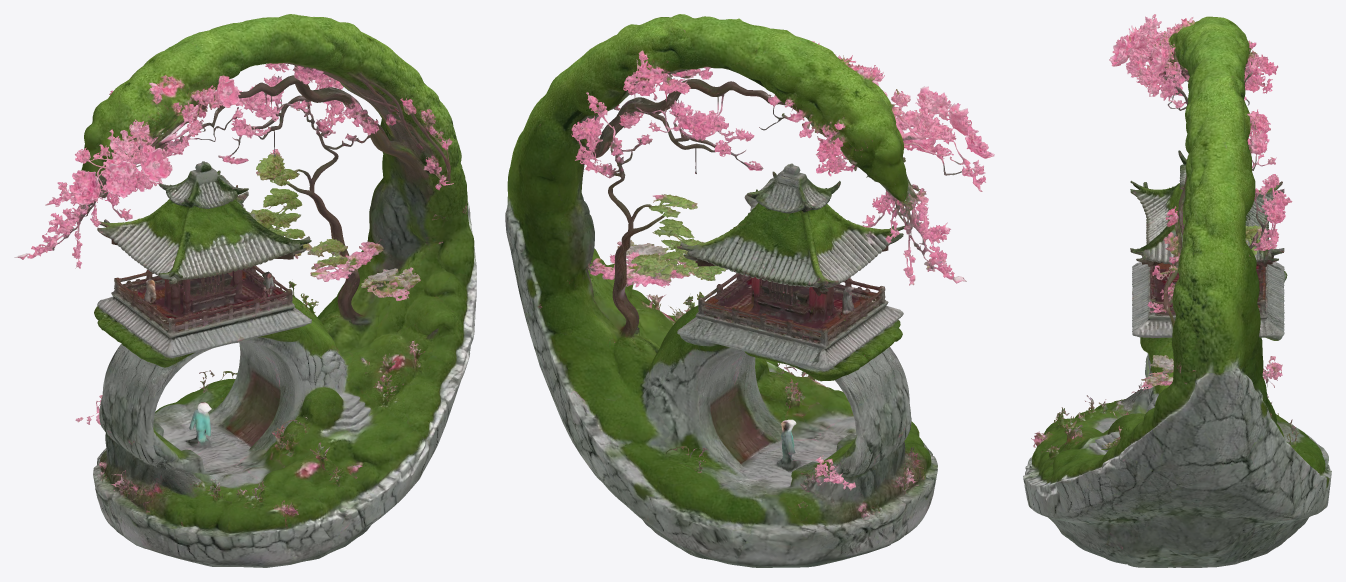
The model's file is bq_moongate.hd.glb.
3 views of the same model, side by side, from view 1: azimuth 30°, elevation 25°; view 2: azimuth 150°, elevation 25°; view 3: azimuth 270°, elevation 25° (orthographic). The views are drawn at different scales.
Size of the model in its own units: 1.85 by 1.9 by 1.11.
1 material, 1 textured.
